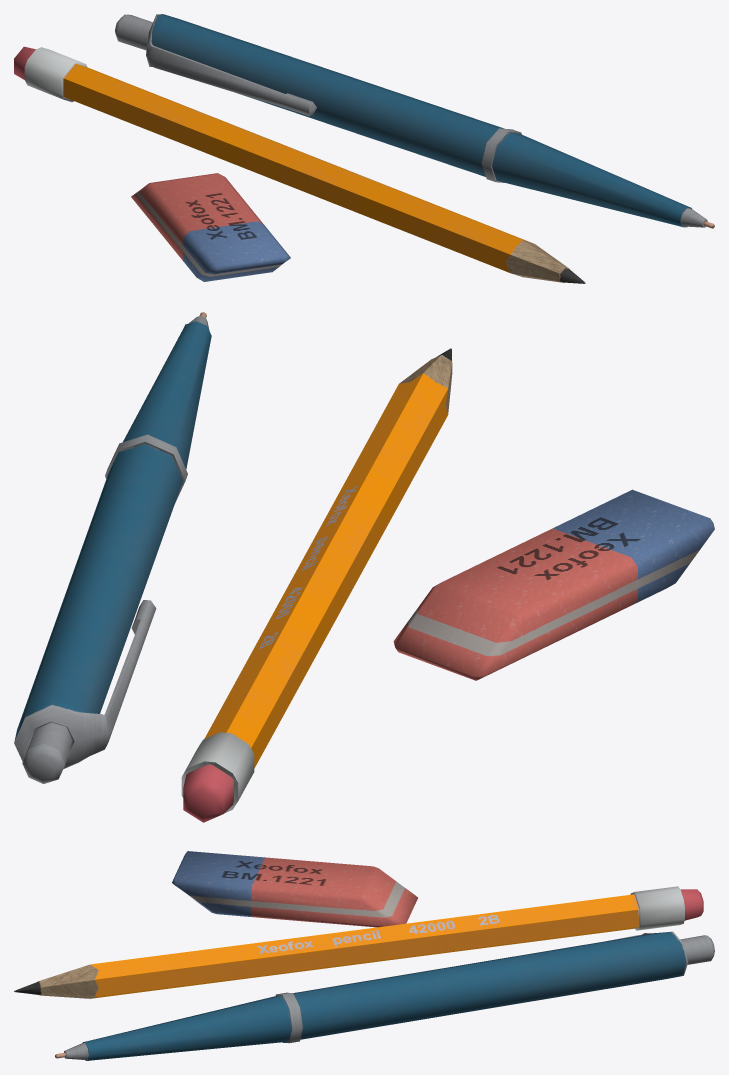
Rendered from stationery_pencil_pen_and_eraser_lowpoly.glb.
The picture shows the model from 3 angles, top to bottom: view 1: azimuth 30°, elevation 25°; view 2: azimuth 150°, elevation 25°; view 3: azimuth 270°, elevation 25°; orthographic projection. The views are drawn at different scales.
Visible parts, largest first — view 1: pencil.001, pencil, lastik; view 2: pencil.001, lastik, pencil; view 3: pencil.001, pencil, lastik.
Boxes of the visible parts, left/top/right/bottom form: pencil.001: left=115, top=14, right=714, bottom=228; pencil: left=14, top=46, right=585, bottom=283; lastik: left=131, top=173, right=290, bottom=281; pencil.001: left=14, top=312, right=211, bottom=783; lastik: left=393, top=489, right=714, bottom=680; pencil: left=181, top=348, right=452, bottom=822; pencil.001: left=55, top=931, right=714, bottom=1060; pencil: left=14, top=886, right=703, bottom=998; lastik: left=172, top=851, right=417, bottom=927.
Size of the model in its own units: 0.0959 by 0.011 by 0.1448.
1 material, 1 textured.
